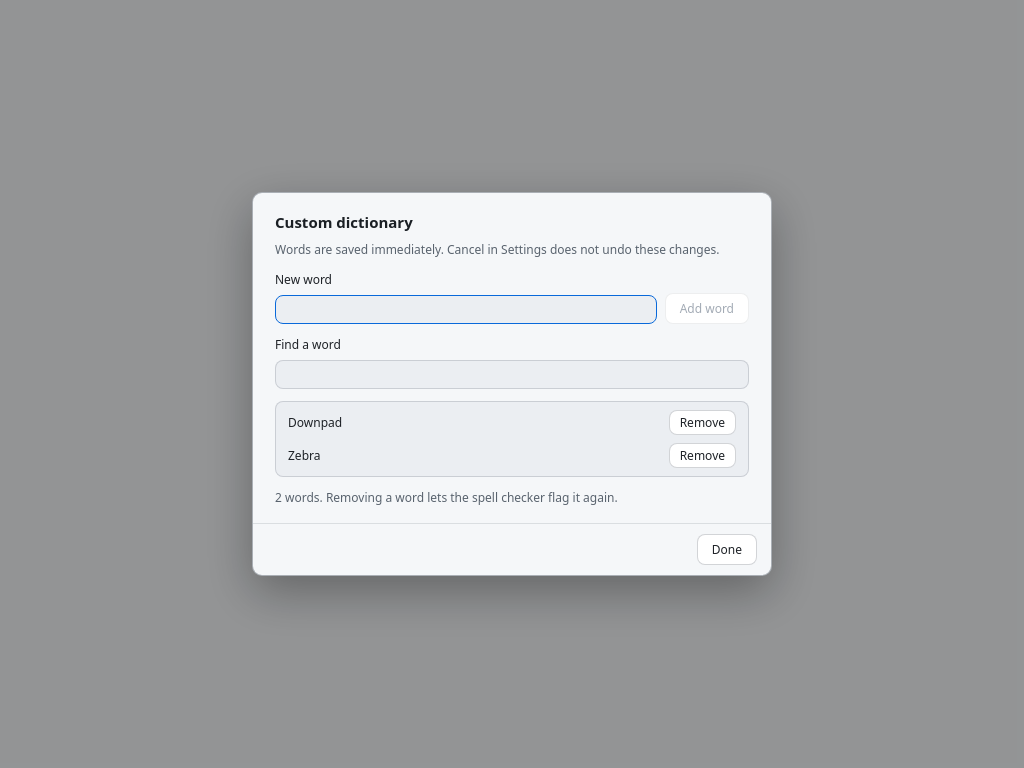
Test: custom dictionary › filters custom words without submitting a pending addition
Step 1. Type "staged" into the field labelled "New word" → (466, 310), box left=275, top=295, right=657, bottom=324
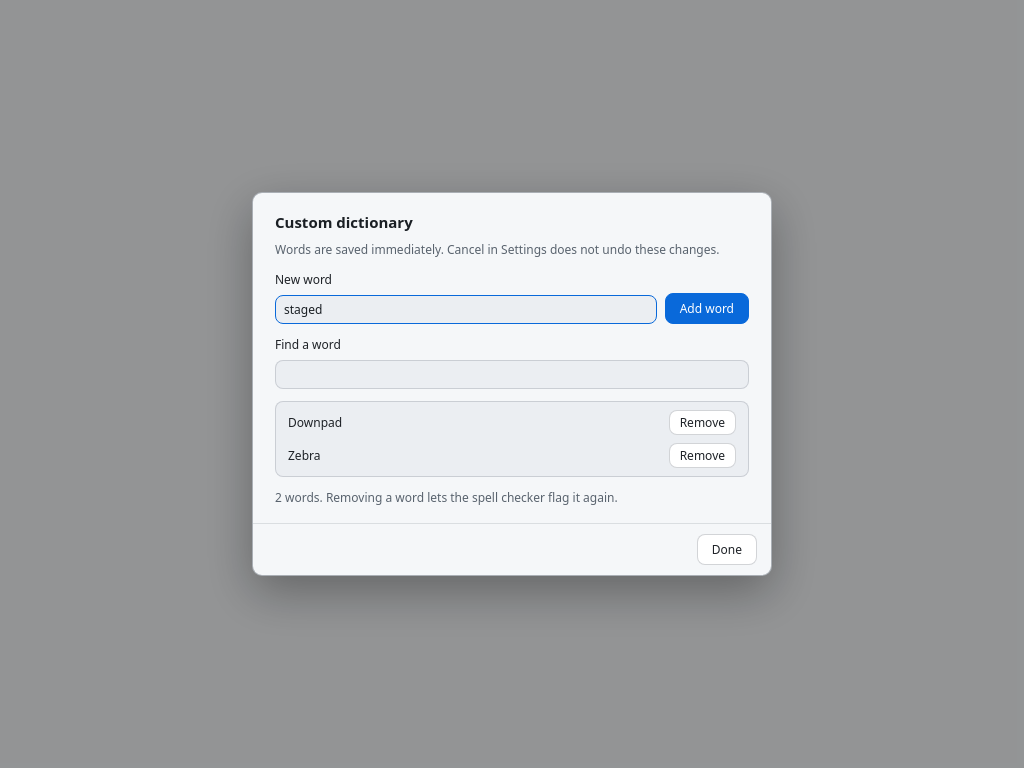
Step 2. Type "down" into the search field labelled "Find a word" → (512, 375), box left=275, top=360, right=749, bottom=389
Then press Enter
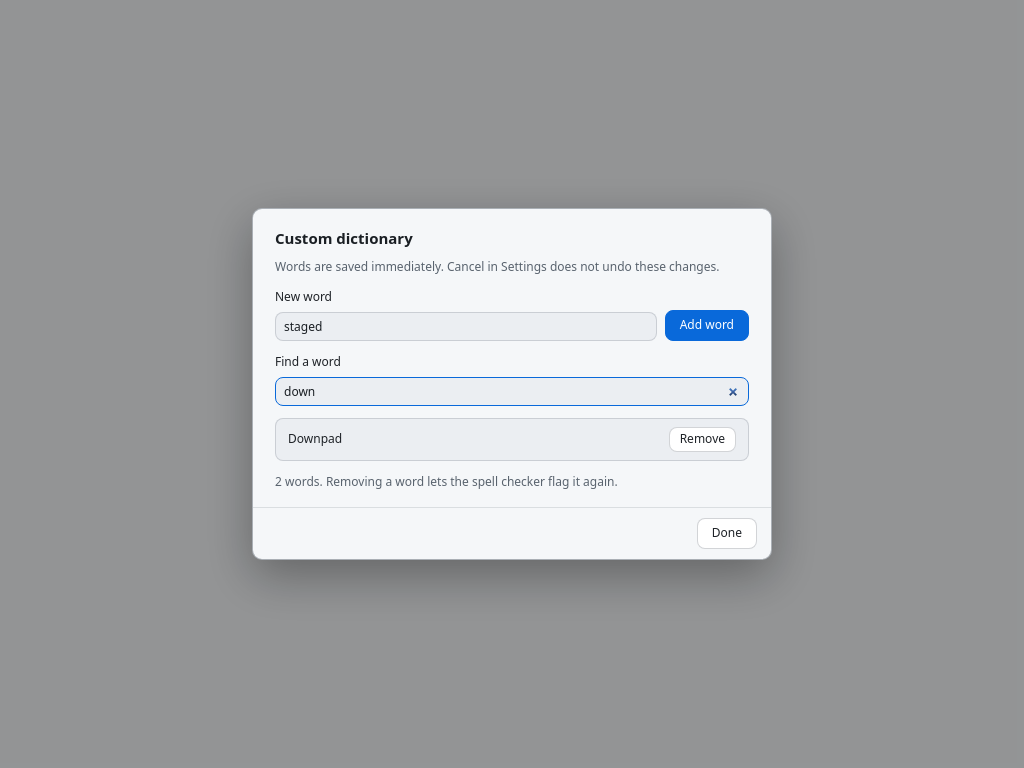
Expected: the button with aria-label "Remove Downpad" is shown, left=669, top=427, right=736, bottom=452
Now the list "Remove Zebra" is gone
Step 3. Clear the search field labelled "Find a word" → (512, 391), box left=275, top=377, right=749, bottom=406
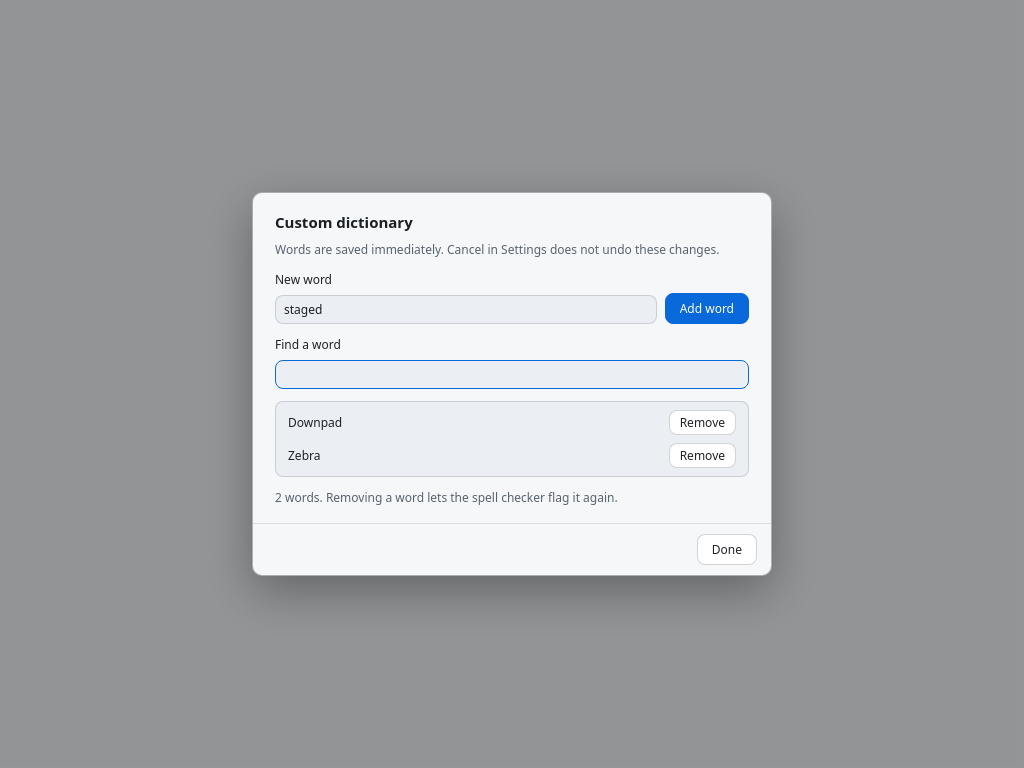
Now the list items read "DownpadRemove", "ZebraRemove", in this order, box left=280, top=406, right=744, bottom=439; left=280, top=439, right=744, bottom=472
